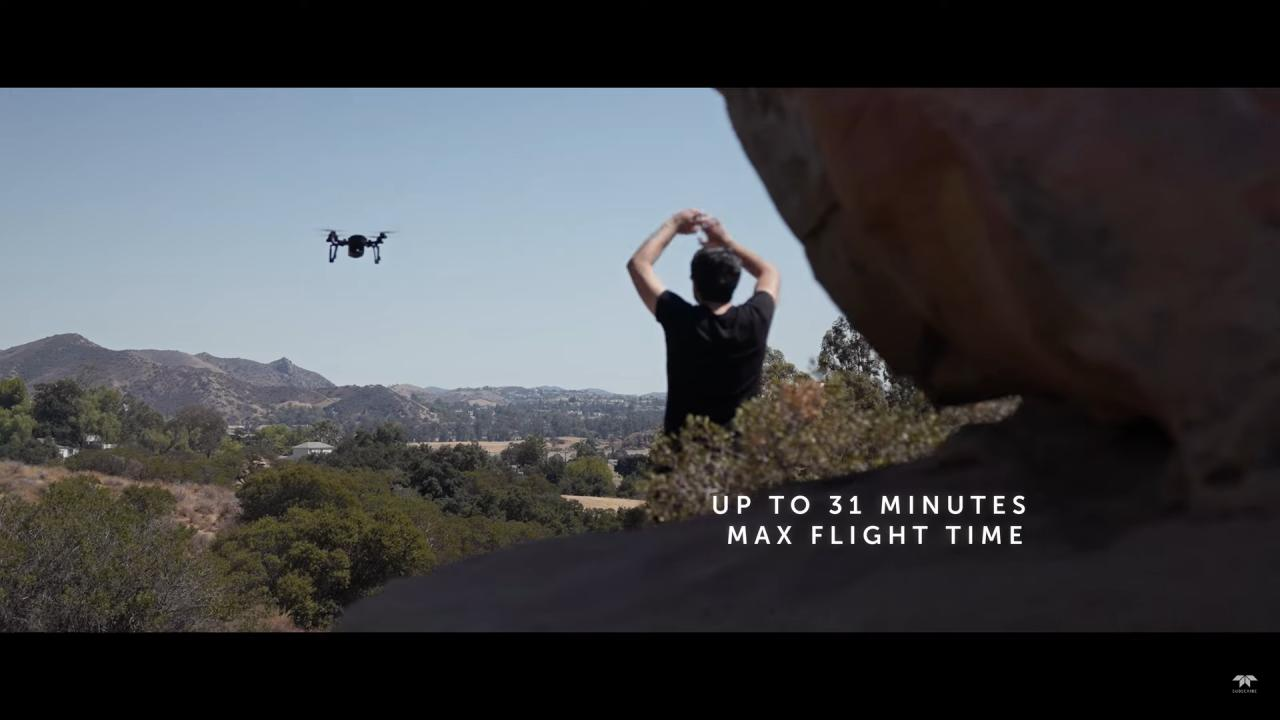Drone: (302, 216, 410, 274)
